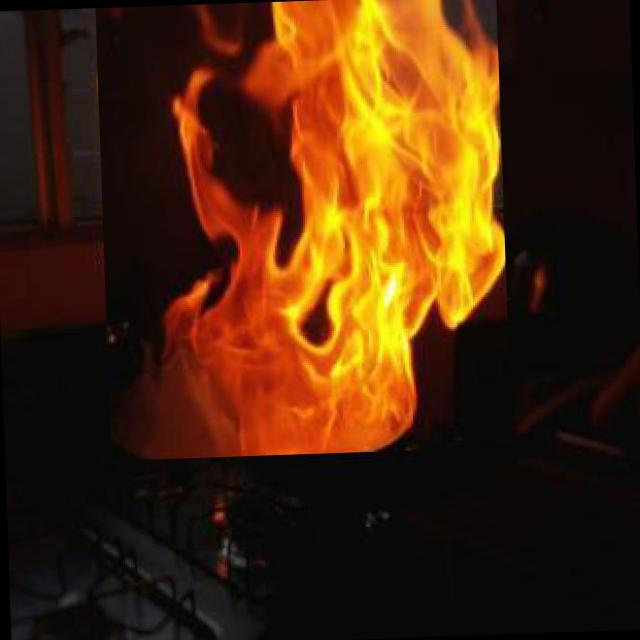fire: (94, 0, 511, 460)
